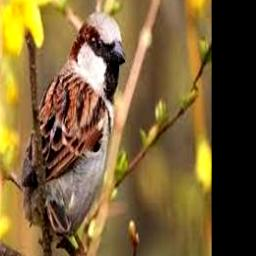Sparrow: (22, 12, 127, 256)
